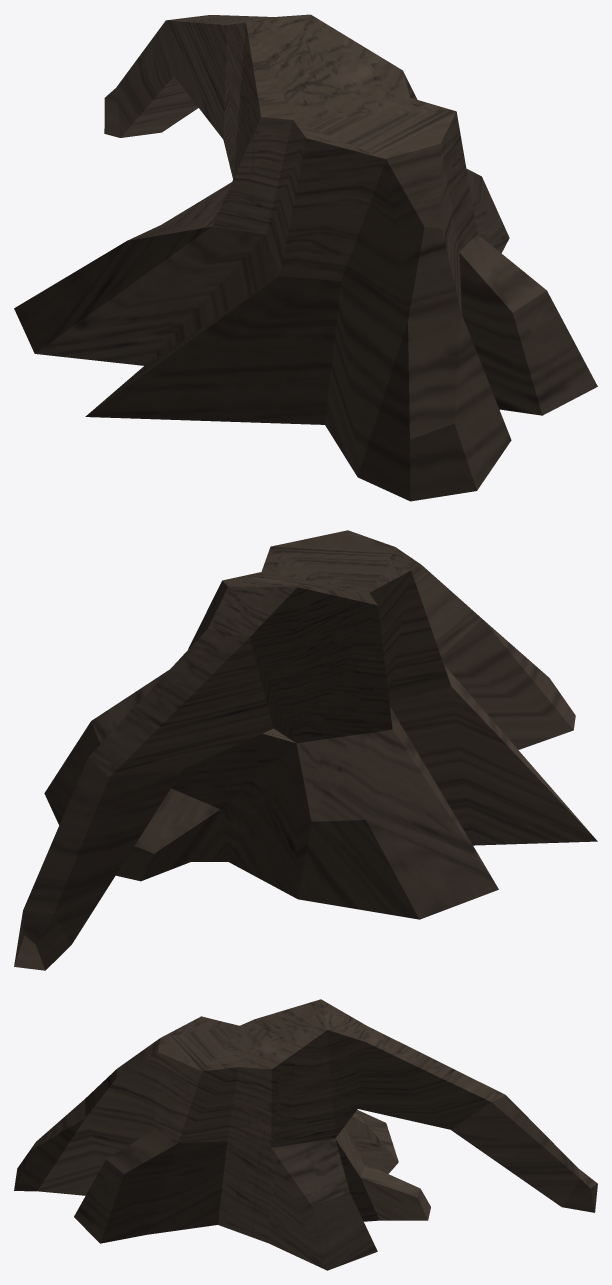
File: tree_02.FBX
The picture shows the model from 3 angles, top to bottom: view 1: azimuth 30°, elevation 25°; view 2: azimuth 150°, elevation 25°; view 3: azimuth 270°, elevation 25°; orthographic projection. The views are drawn at different scales.
Parts seen in each view (by area): view 1: Cube.007; view 2: Cube.007; view 3: Cube.007.
Boxes of the visible parts, x1,y1,x2,y2 form: Cube.007: [14, 14, 597, 501]; Cube.007: [14, 530, 597, 970]; Cube.007: [14, 999, 597, 1270].
Bounding box in the file's own units: 65.3 × 36.08 × 98.89.
1 material, 1 textured.
